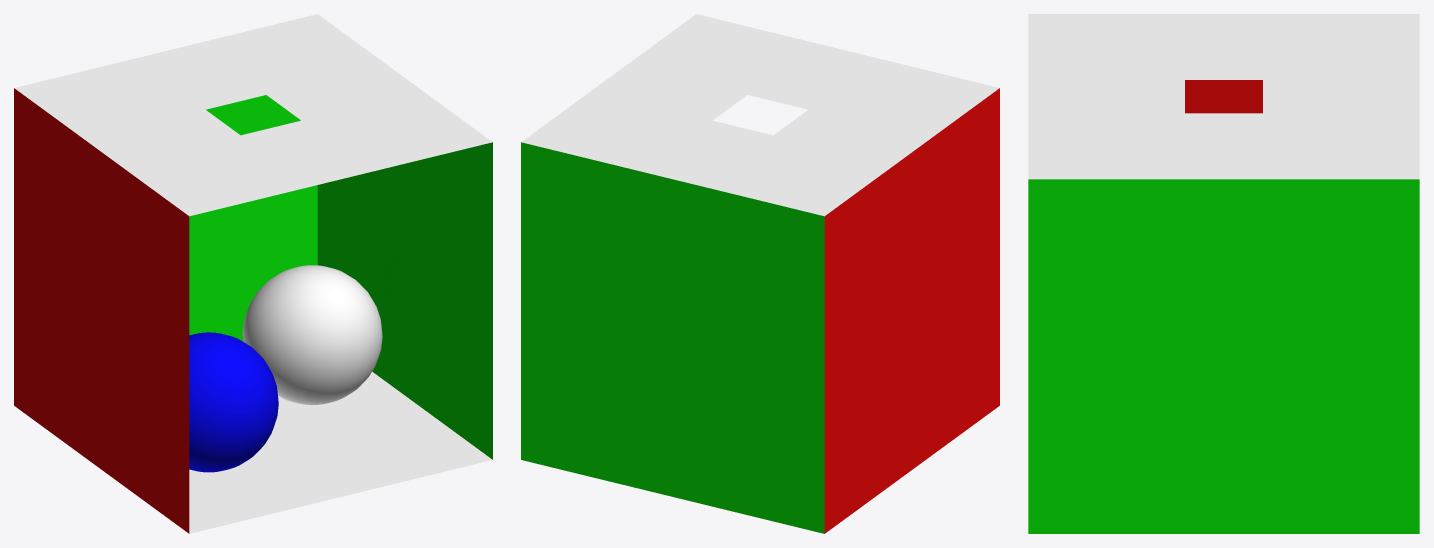
Rendered from cornell_box.glb.
3 renders of one model, left to right at view 1: azimuth 30°, elevation 25°; view 2: azimuth 150°, elevation 25°; view 3: azimuth 270°, elevation 25°, orthographic. The views are drawn at different scales.
Parts seen in each view (by area): view 1: LeftWall, Ceiling, RightWall, Floor, BackWall, RoughMetalSphere, SmoothDielectricSphere; view 2: BackWall, LeftWall, Ceiling; view 3: RightWall, Ceiling, LeftWall.
Part boxes in pixels (x1,y1,x2,y2): LeftWall: (14,88,189,533); Ceiling: (14,14,492,216); RightWall: (317,142,492,459); Floor: (189,371,492,533); BackWall: (189,95,317,341); RoughMetalSphere: (242,265,382,405); SmoothDielectricSphere: (189,332,278,472); BackWall: (521,142,824,533); LeftWall: (824,88,999,533); Ceiling: (521,14,999,216); RightWall: (1028,179,1419,533); Ceiling: (1028,14,1419,179); LeftWall: (1185,80,1262,113).
Bounding box in the file's own units: 2 × 2 × 2.
